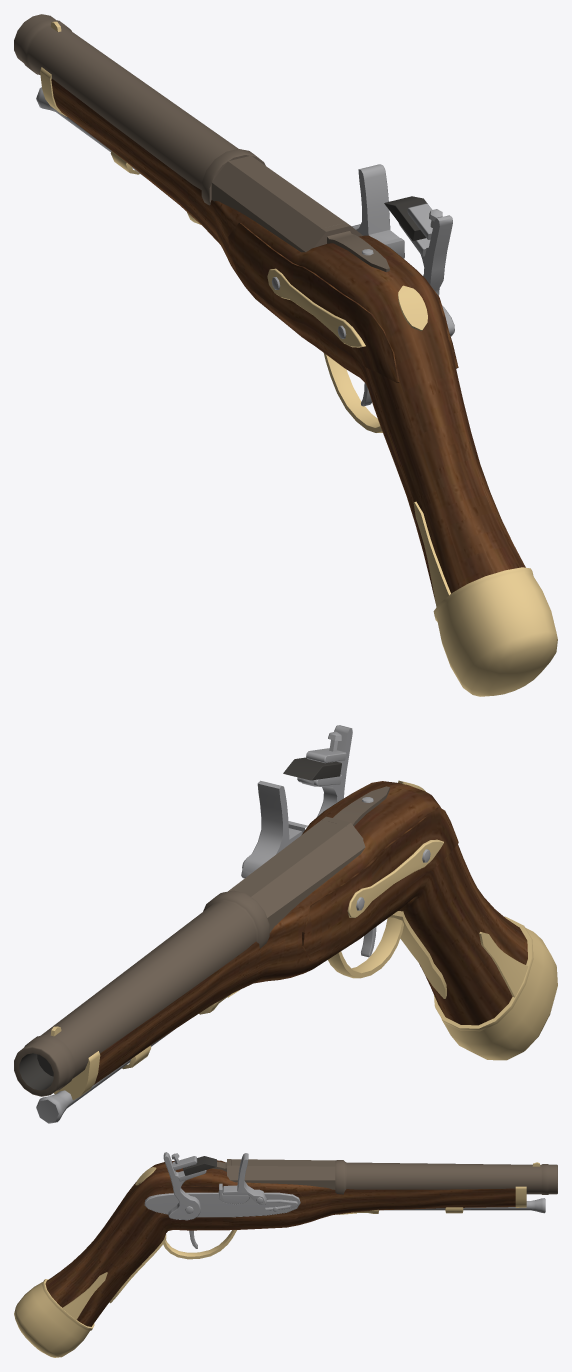
The model's file is pistol.glb.
The picture shows the model from 3 angles, top to bottom: view 1: azimuth 30°, elevation 25°; view 2: azimuth 150°, elevation 25°; view 3: azimuth 270°, elevation 25°; orthographic projection. The views are drawn at different scales.
Parts seen in each view (by area): view 1: Pistol; view 2: Pistol; view 3: Pistol.
Boxes of the visible parts, <box> form: Pistol: <box>14,14,557,696</box>; Pistol: <box>14,725,557,1123</box>; Pistol: <box>14,1152,557,1357</box>.
Size of the model in its own units: 0.0499 by 0.1706 by 0.3912.
Materials: 5 (1 with a texture image).
